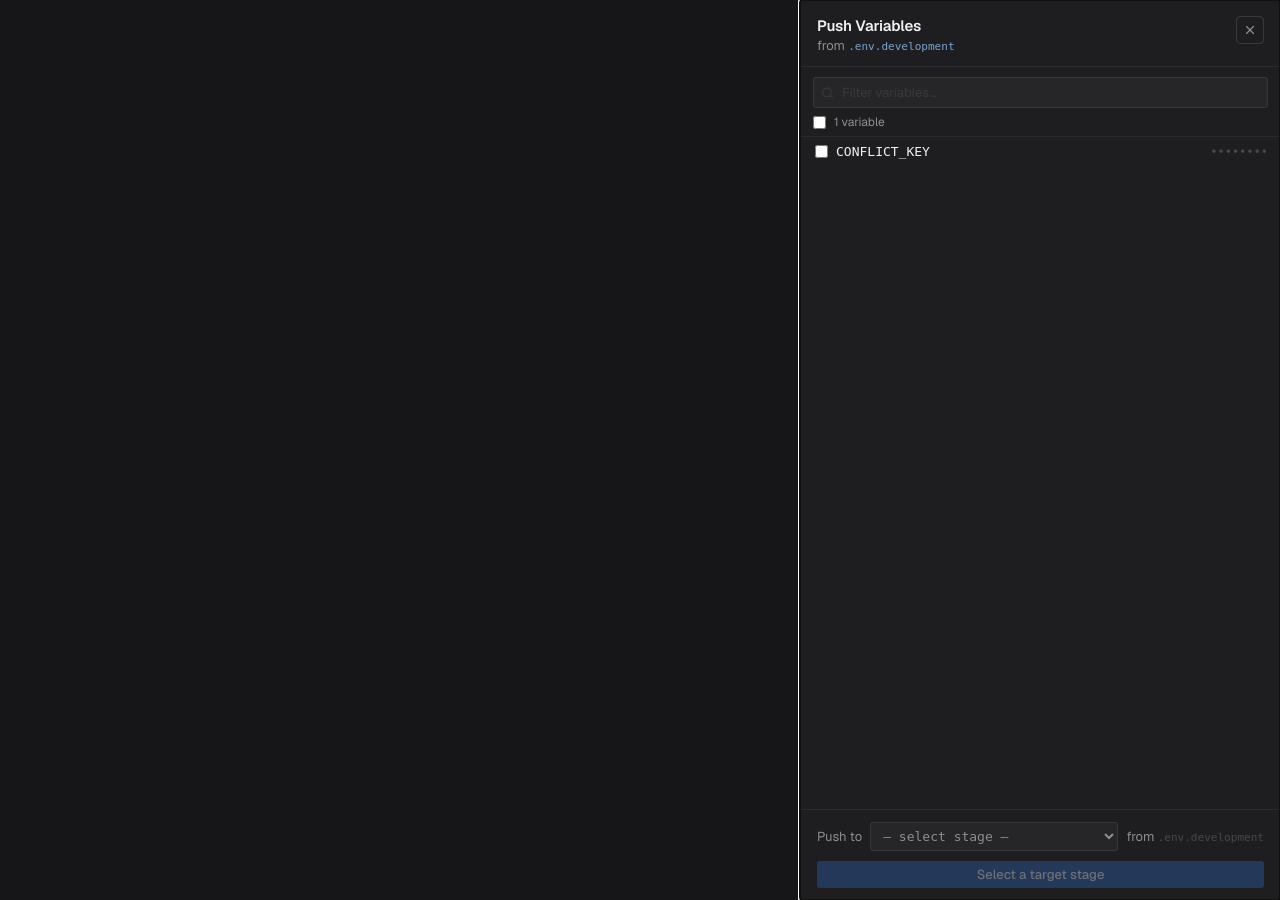
PushToStagePanel › Summary bar › shows correct overwrite count for conflicting vars
Click the row "CONFLICT_KEY ••••••••".
click(883, 152)  # box x1=815 y1=144 x2=1268 y2=159
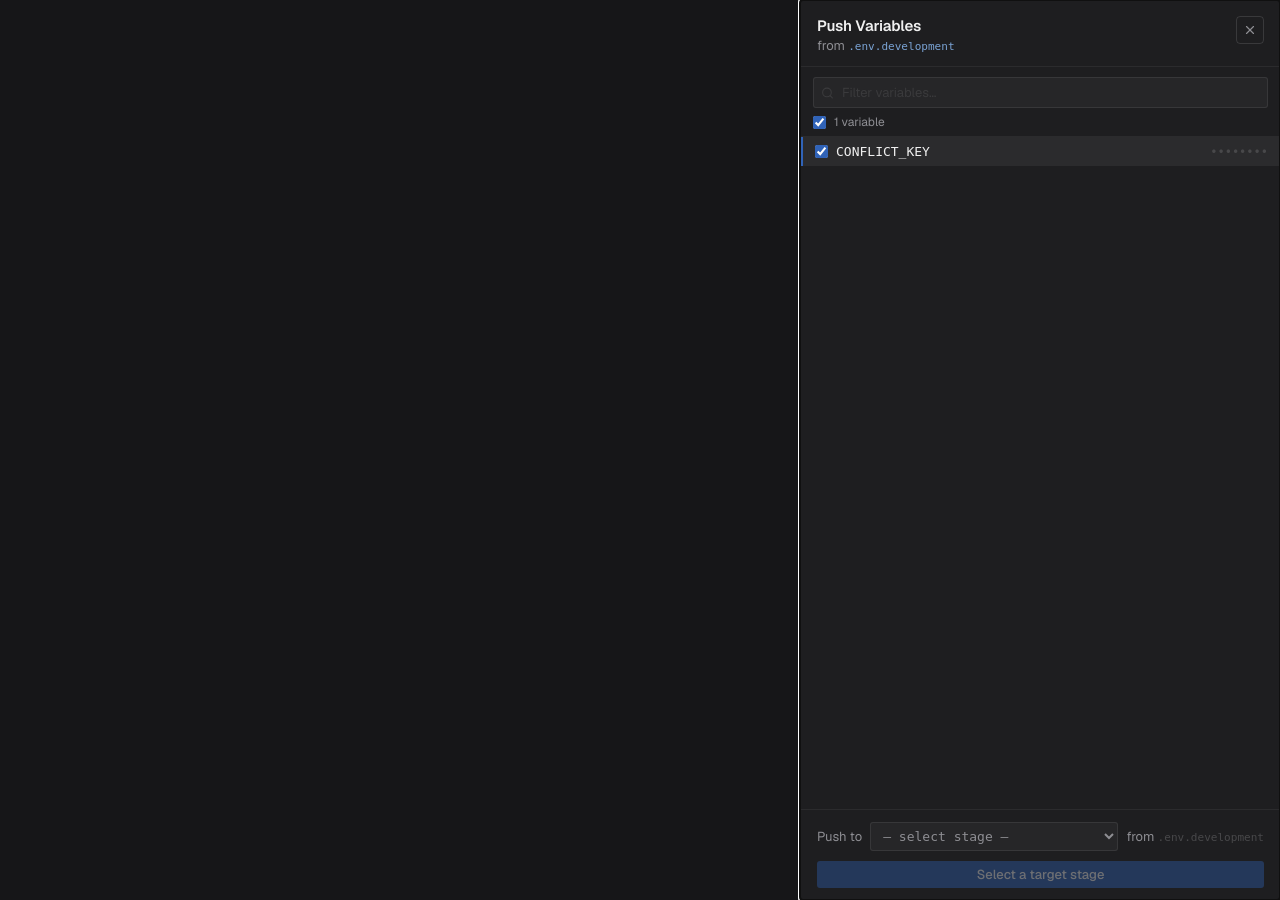
Select ".env.staging (empty)" in the dropdown with test id "stage-selector" at (994, 836), box x1=870 y1=822 x2=1118 y2=851
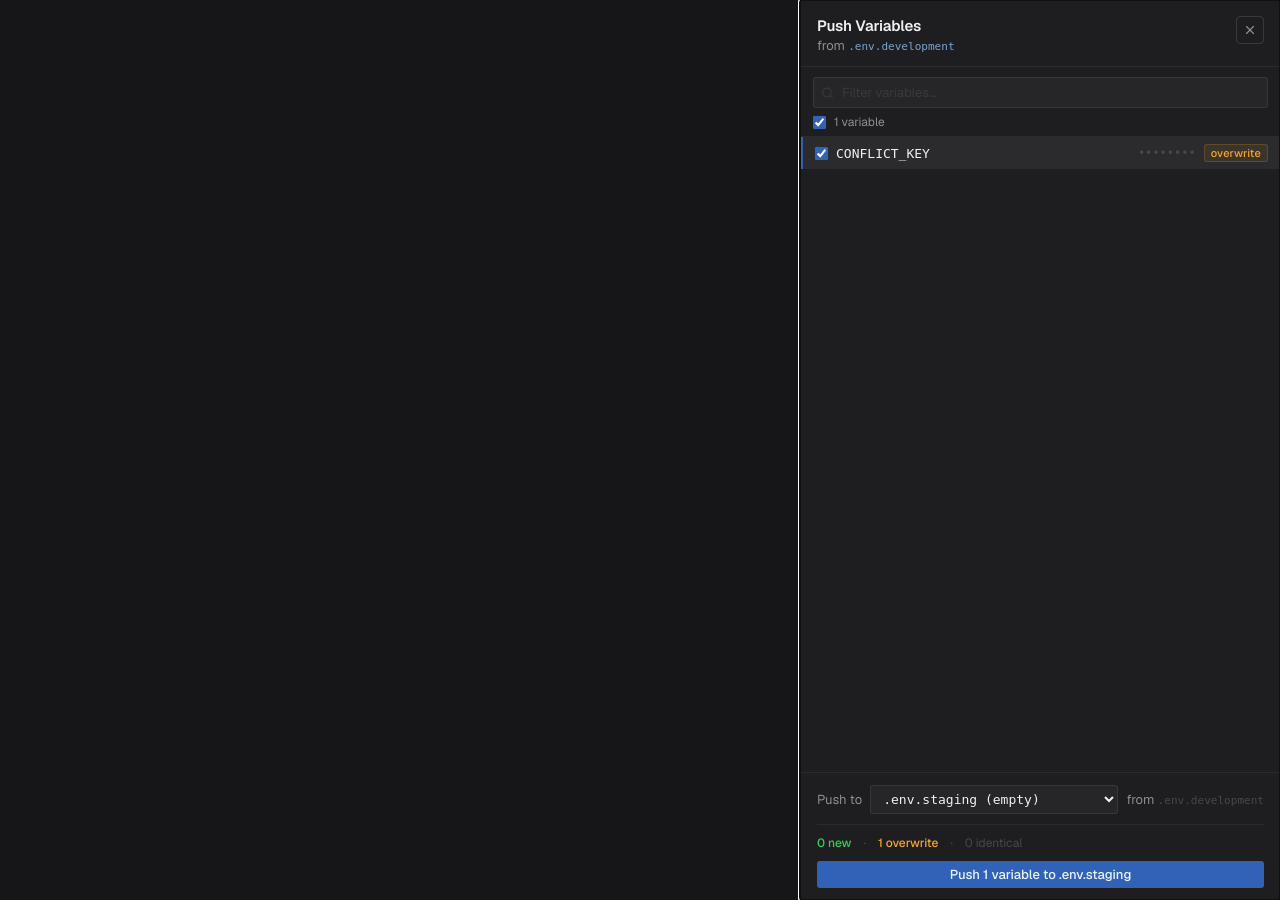
Result: the element with test id "summary-bar" shows "1 overwrite" at x1=817 y1=835 x2=1022 y2=851
